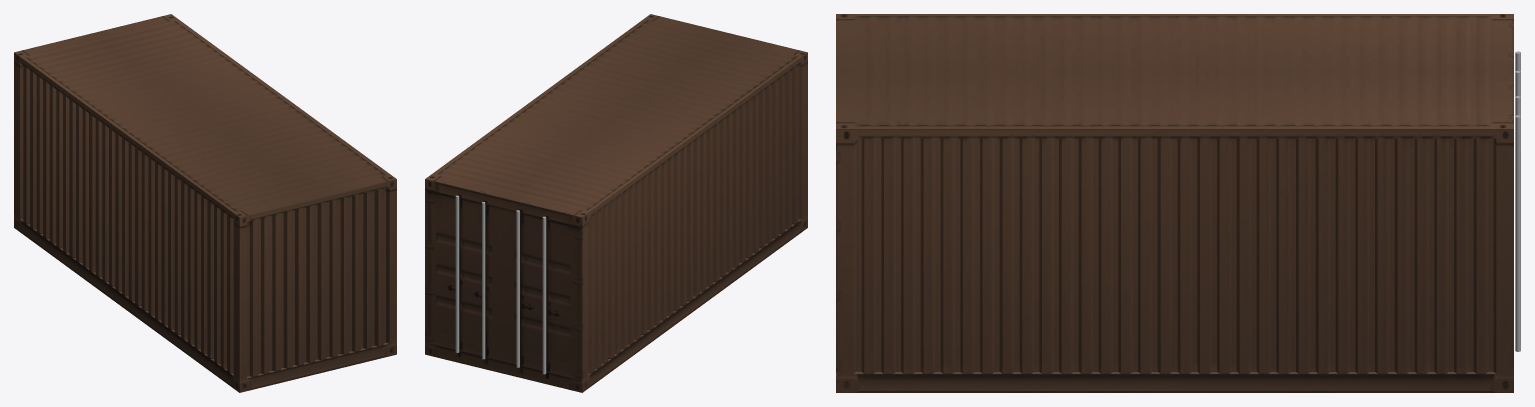
The model's file is container20ft.fbx.
The picture shows the model from 3 angles, left to right: view 1: azimuth 30°, elevation 25°; view 2: azimuth 150°, elevation 25°; view 3: azimuth 270°, elevation 25°; orthographic projection. The views are drawn at different scales.
Parts seen in each view (by area): view 1: container20ft_1; view 2: container20ft_1; view 3: container20ft_1.
Boxes of the visible parts, <box> form: container20ft_1: <box>14,14,396,392</box>; container20ft_1: <box>425,14,807,392</box>; container20ft_1: <box>836,14,1520,392</box>.
Bounding box in the file's own units: 0.0244 × 0.026 × 0.0612.
